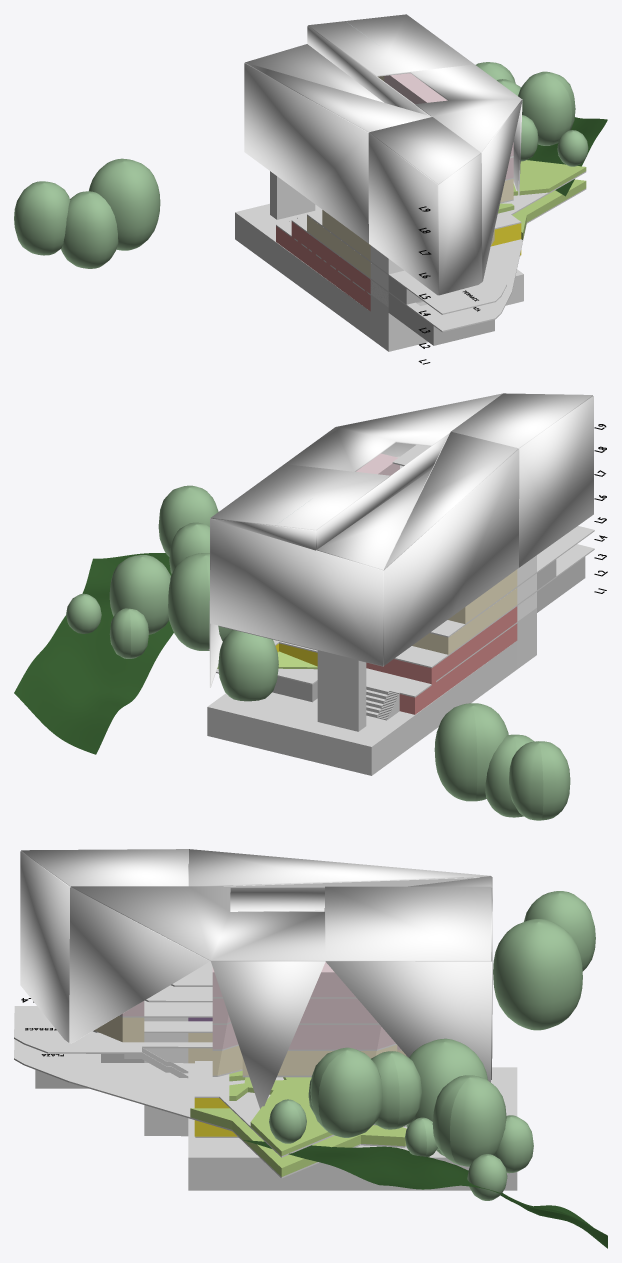
File: QUT_Diagram_02.glb
The picture shows the model from 3 angles, top to bottom: view 1: azimuth 30°, elevation 25°; view 2: azimuth 150°, elevation 25°; view 3: azimuth 270°, elevation 25°; orthographic projection. The views are drawn at different scales.
Visible parts, largest first — view 1: Building Roof.001, Building 00_Trees_Drawn, Building Level_1 Masses, Building Level_3 Masses, Building Level_2 Masses, New Slab.002, Building Level_4 Masses.002, Building 00_TowerStair, Building 00_Green, Building Level_8 Masses.001; view 2: Building Roof.001, Building 00_Trees_Drawn, Building Level_1 Masses, Building 00_Green, Building Level_2 Masses, Building Level_3 Masses, Building 00_TowerStair, Building Level_4 Masses.002, New Slab.002, Building Level_8 Masses.001; view 3: Building Roof.001, Building 00_Trees_Drawn, Building Level_3 Masses, Building Level_1 Masses, Building 00_Green, New Slab.002, Building Level_4 Masses.002, Building Level_6 Masses.001, Building Level_5 Masses.002, Building Level_7 Masses.002, Building Level_8 Masses.001, Building Level_5 Masses (+2 smaller).
Boxes of the visible parts, x1,y1,x2,y2 form: Building Roof.001: [244, 14, 522, 295]; Building 00_Trees_Drawn: [14, 62, 588, 268]; Building Level_1 Masses: [235, 203, 523, 351]; Building Level_3 Masses: [291, 179, 586, 331]; Building Level_2 Masses: [276, 215, 521, 345]; New Slab.002: [307, 171, 586, 314]; Building Level_4 Masses.002: [322, 160, 586, 274]; Building 00_TowerStair: [270, 171, 315, 219]; Building 00_Green: [527, 117, 607, 196]; Building Level_8 Masses.001: [378, 73, 447, 104]; Building Roof.001: [209, 393, 593, 687]; Building 00_Trees_Drawn: [66, 485, 570, 820]; Building Level_1 Masses: [207, 594, 536, 775]; Building 00_Green: [14, 553, 173, 754]; Building Level_2 Masses: [216, 557, 585, 720]; Building Level_3 Masses: [208, 544, 594, 668]; Building 00_TowerStair: [317, 650, 366, 731]; Building Level_4 Masses.002: [448, 555, 536, 623]; New Slab.002: [430, 526, 594, 637]; Building Level_8 Masses.001: [356, 453, 403, 475]; Building Roof.001: [20, 849, 492, 1108]; Building 00_Trees_Drawn: [269, 891, 595, 1200]; Building Level_3 Masses: [14, 1039, 407, 1178]; Building Level_1 Masses: [144, 1067, 517, 1190]; Building 00_Green: [243, 1140, 607, 1248]; New Slab.002: [14, 1006, 407, 1157]; Building Level_4 Masses.002: [124, 1033, 332, 1156]; Building Level_6 Masses.001: [119, 1000, 401, 1050]; Building Level_5 Masses.002: [93, 1021, 397, 1077]; Building Level_7 Masses.002: [212, 998, 378, 1023]; Building Level_8 Masses.001: [171, 961, 356, 998]; Building Level_5 Masses: [94, 1016, 212, 1042].
Size of the model in its own units: 135 by 53.2 by 111.
